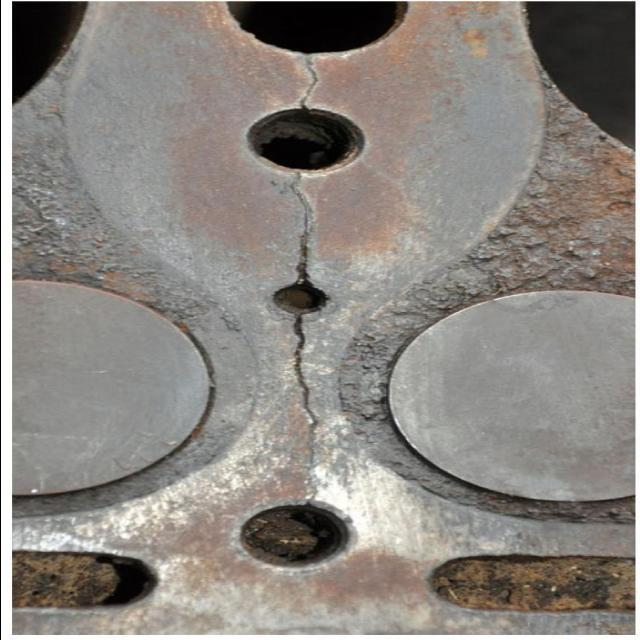defect: (287, 313, 325, 508), (285, 168, 320, 291), (296, 52, 321, 116)
